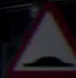Speed Breaker ahead: (10, 13, 71, 72)
